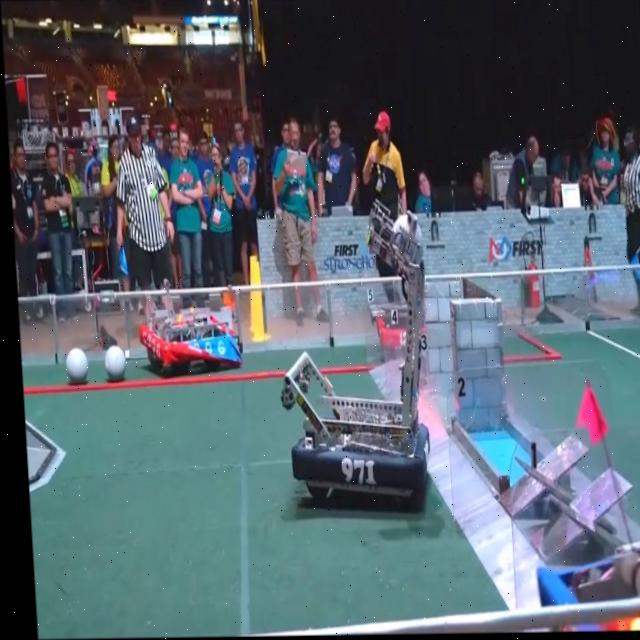robot: (262, 202, 436, 530), (526, 531, 640, 634), (129, 277, 243, 377)
